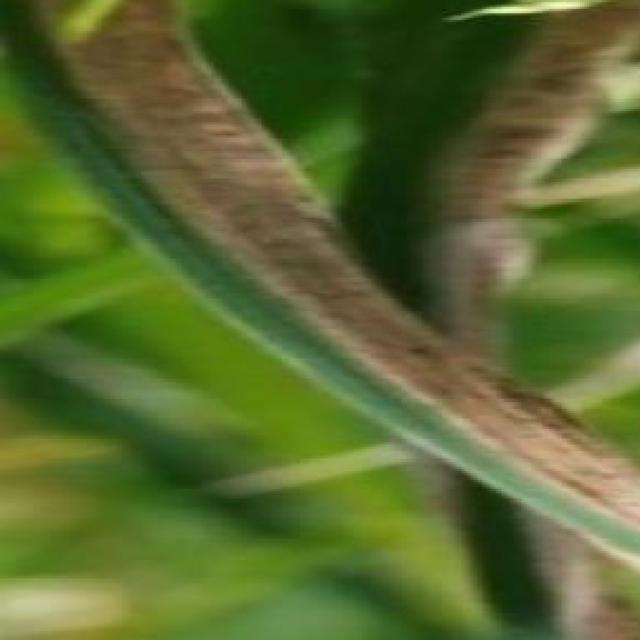Bacterial_Leaf_Blight: (26, 0, 373, 374)
